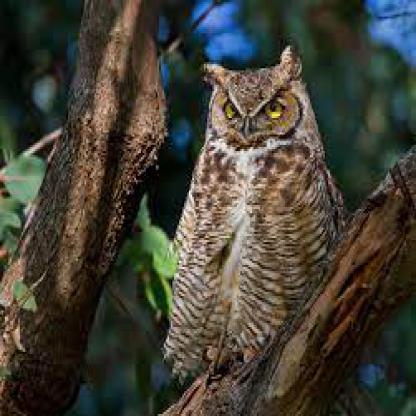owl: (174, 6, 414, 414)
